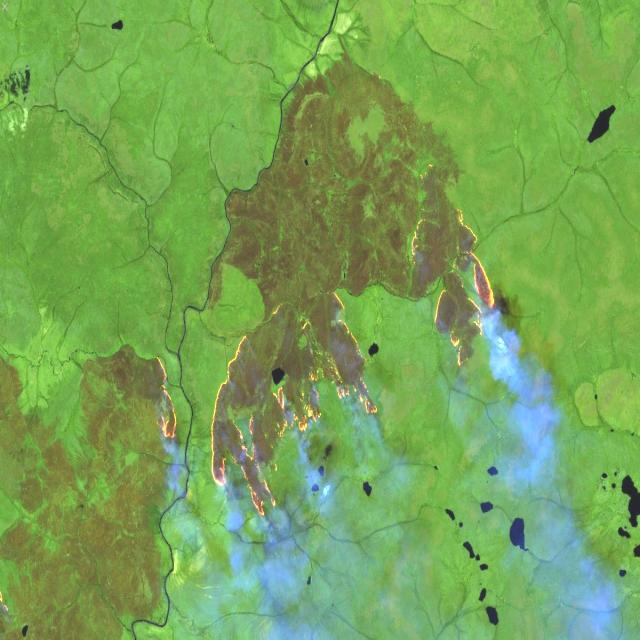fire: (205, 186, 510, 534), (140, 348, 188, 458)
